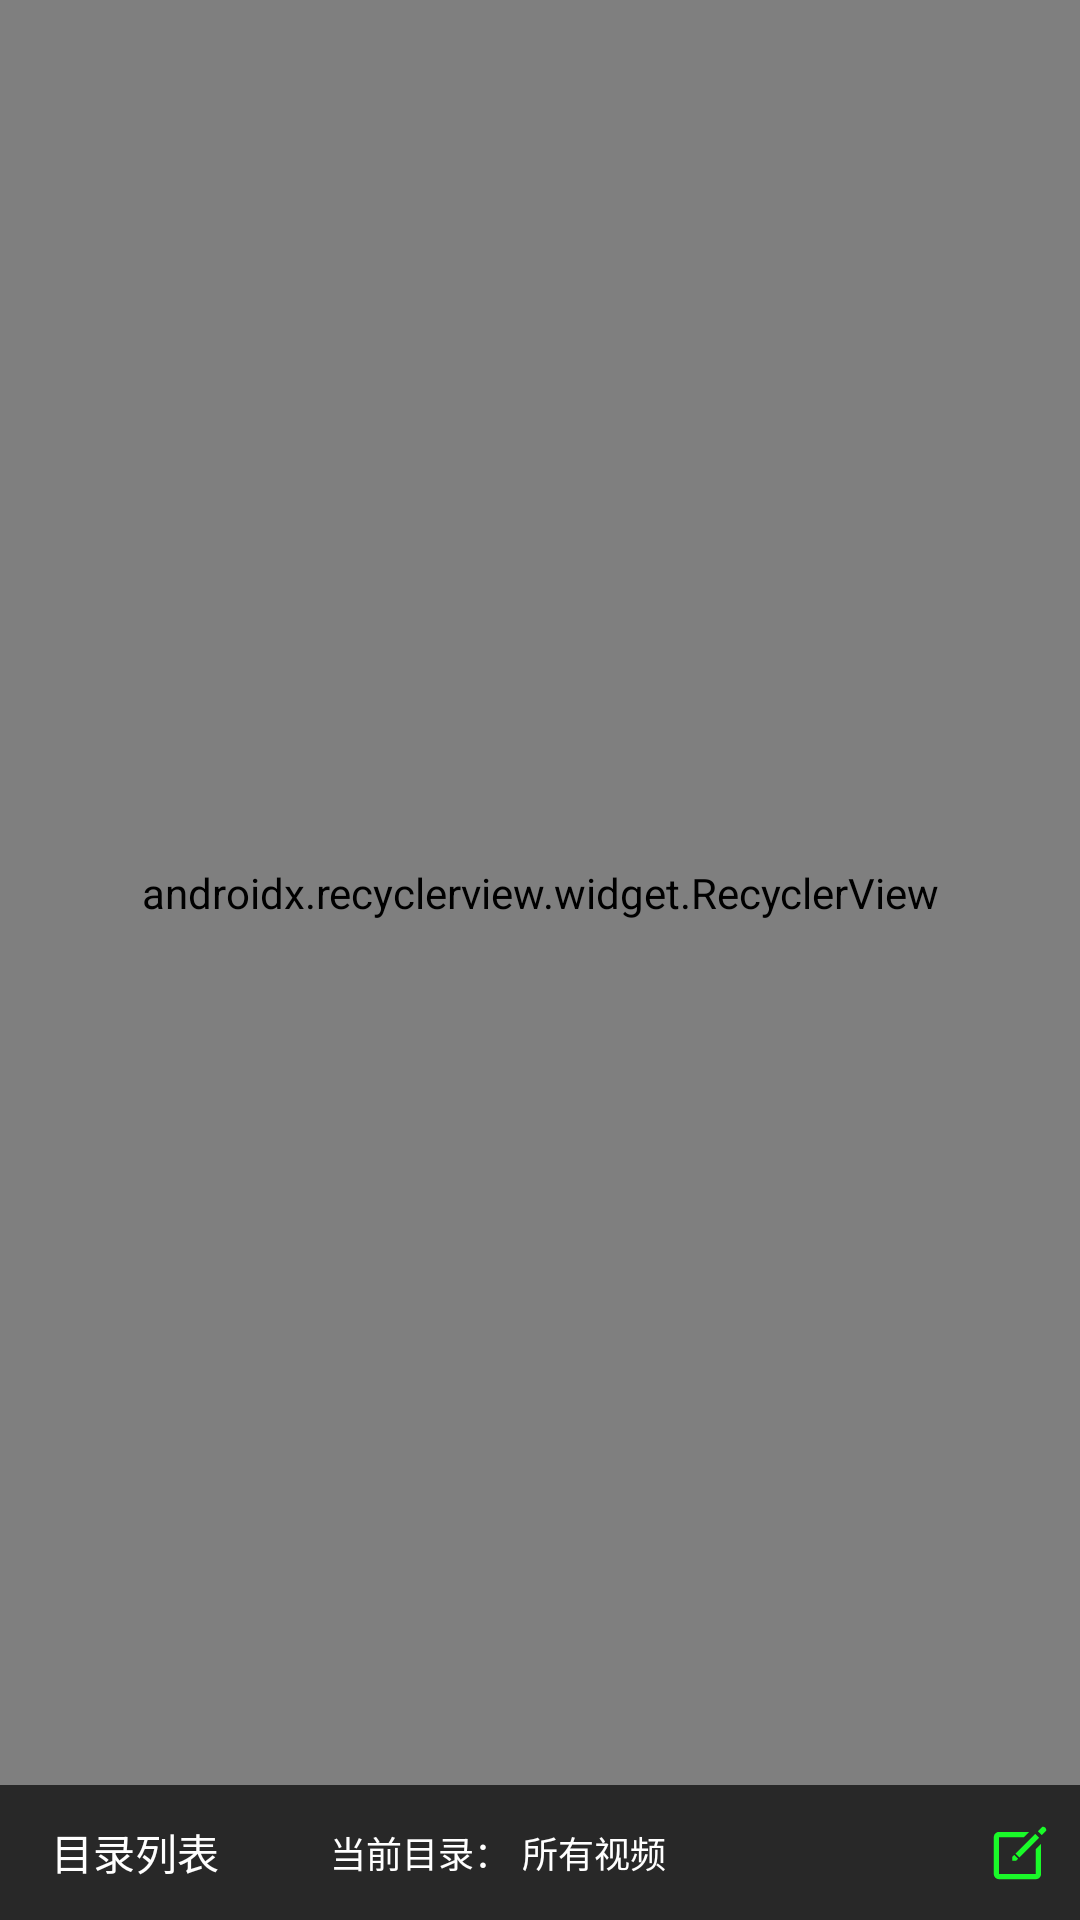

Icons on this 1080px x 1920px Android screen, each with the point to tap as point (x, y):
edit: point (1020, 1853)
